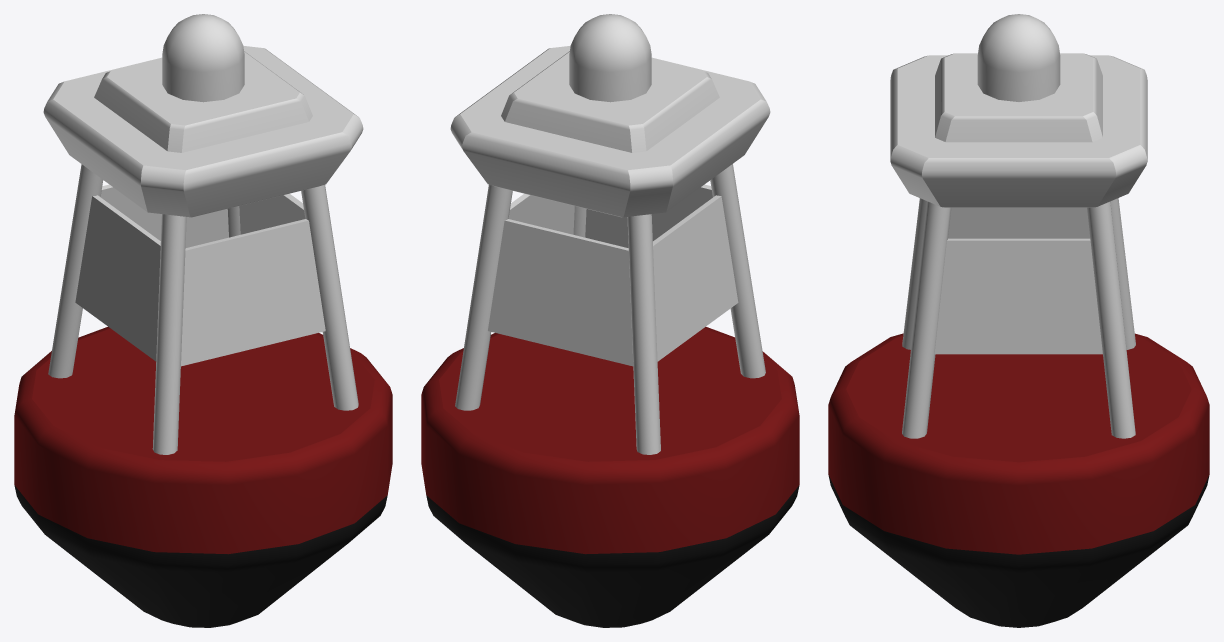
Rendered from SM_Dive_Buoy.fbx.
3 renders of one model, left to right at view 1: azimuth 30°, elevation 25°; view 2: azimuth 150°, elevation 25°; view 3: azimuth 270°, elevation 25°, orthographic.
Parts seen in each view (by area): view 1: Buoy_Base, Buoy_Top01, Buoy_Panel01, Buoy_Top02, Buoy_Panel04, Buoy_Light, Buoy_Leg01, Buoy_Leg02, Buoy_Leg04, Buoy_Panel03, Buoy_Panel02; view 2: Buoy_Base, Buoy_Top01, Buoy_Panel03, Buoy_Top02, Buoy_Panel04, Buoy_Light, Buoy_Leg04, Buoy_Leg03, Buoy_Leg01, Buoy_Panel01, Buoy_Panel02; view 3: Buoy_Base, Buoy_Top01, Buoy_Panel02, Buoy_Top02, Buoy_Light, Buoy_Leg02, Buoy_Leg03, Buoy_Panel04, Buoy_Leg04, Buoy_Leg01.
Part boxes in pixels (left/top/right/bottom): Buoy_Base: left=14, top=327, right=392, bottom=627; Buoy_Top01: left=43, top=46, right=363, bottom=217; Buoy_Panel01: left=181, top=219, right=325, bottom=366; Buoy_Top02: left=94, top=51, right=312, bottom=152; Buoy_Panel04: left=75, top=195, right=160, bottom=361; Buoy_Light: left=162, top=14, right=244, bottom=102; Buoy_Leg01: left=152, top=214, right=186, bottom=454; Buoy_Leg02: left=301, top=184, right=358, bottom=410; Buoy_Leg04: left=48, top=164, right=103, bottom=378; Buoy_Panel03: left=100, top=184, right=228, bottom=247; Buoy_Panel02: left=239, top=193, right=305, bottom=234; Buoy_Base: left=421, top=327, right=799, bottom=627; Buoy_Top01: left=450, top=46, right=770, bottom=217; Buoy_Panel03: left=488, top=219, right=633, bottom=366; Buoy_Top02: left=501, top=51, right=719, bottom=152; Buoy_Panel04: left=653, top=195, right=738, bottom=361; Buoy_Light: left=569, top=14, right=651, bottom=102; Buoy_Leg04: left=627, top=214, right=660, bottom=454; Buoy_Leg03: left=455, top=184, right=512, bottom=410; Buoy_Leg01: left=710, top=164, right=765, bottom=378; Buoy_Panel01: left=585, top=184, right=712, bottom=247; Buoy_Panel02: left=508, top=193, right=574, bottom=234; Buoy_Base: left=828, top=333, right=1209, bottom=627; Buoy_Top01: left=890, top=55, right=1147, bottom=207; Buoy_Panel02: left=934, top=238, right=1102, bottom=354; Buoy_Top02: left=935, top=53, right=1102, bottom=142; Buoy_Light: left=977, top=14, right=1060, bottom=101; Buoy_Leg02: left=902, top=201, right=951, bottom=438; Buoy_Leg03: left=1087, top=201, right=1135, bottom=438; Buoy_Panel04: left=948, top=207, right=1090, bottom=238; Buoy_Leg04: left=1110, top=198, right=1135, bottom=349; Buoy_Leg01: left=902, top=198, right=926, bottom=349.
Bounding box in the file's own units: 10 × 17.34 × 10.
